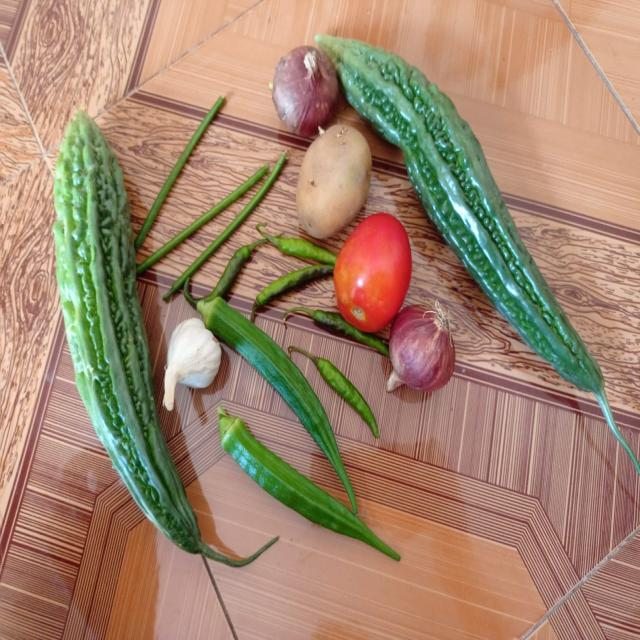Organik: (56, 114, 200, 575), (422, 95, 614, 400), (223, 409, 410, 566), (336, 210, 411, 328), (296, 125, 369, 241), (308, 346, 388, 441), (382, 304, 454, 400), (156, 314, 218, 419), (274, 44, 336, 134), (245, 265, 333, 318)
